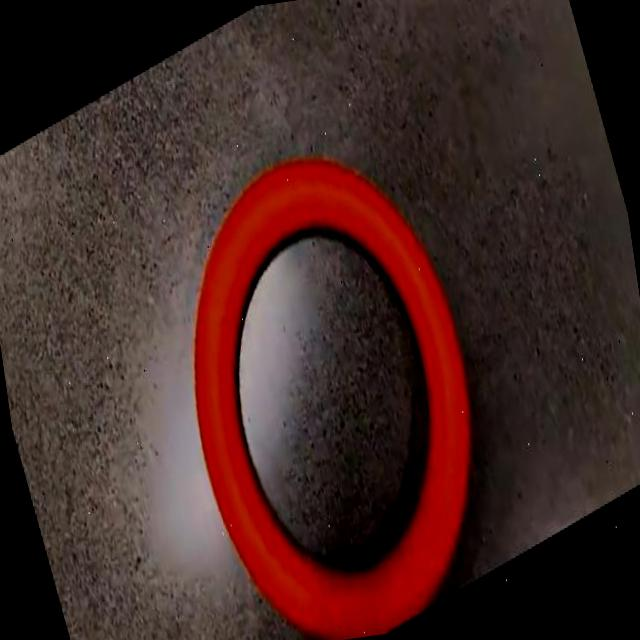note: (195, 159, 470, 640)
